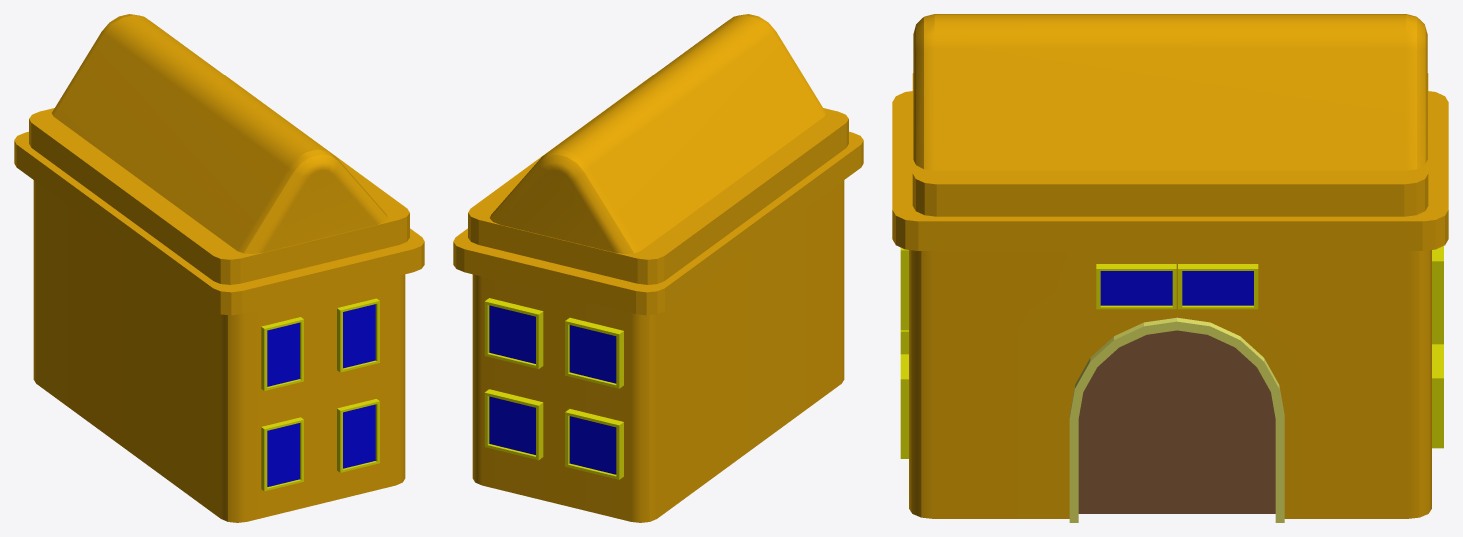
3 renders of one model, left to right at view 1: azimuth 30°, elevation 25°; view 2: azimuth 150°, elevation 25°; view 3: azimuth 270°, elevation 25°, orthographic. The views are drawn at different scales.
Parts seen in each view (by area): view 1: polySurface83, pCube60, polySurface89, polySurface87, polySurface88, polySurface90; view 2: polySurface83, pCube60, polySurface91, polySurface94, polySurface92, polySurface93; view 3: polySurface83, pCube60, pCube62, polySurface85, polySurface86, polySurface94, polySurface91, polySurface90, polySurface87.
Part boxes in pixels (<box>): polySurface83: <box>14,75,424,522</box>; pCube60: <box>52,14,387,253</box>; polySurface89: <box>261,417,303,491</box>; polySurface87: <box>337,298,379,372</box>; polySurface88: <box>261,317,303,390</box>; polySurface90: <box>337,399,379,472</box>; polySurface83: <box>453,75,863,522</box>; pCube60: <box>490,14,825,253</box>; polySurface91: <box>484,298,543,368</box>; polySurface94: <box>484,389,543,460</box>; polySurface92: <box>565,317,623,388</box>; polySurface93: <box>565,409,623,479</box>; polySurface83: <box>892,73,1448,518</box>; pCube60: <box>913,14,1427,170</box>; pCube62: <box>1069,317,1284,522</box>; polySurface85: <box>1096,264,1176,309</box>; polySurface86: <box>1178,264,1258,309</box>; polySurface94: <box>1432,344,1443,448</box>; polySurface91: <box>1432,246,1443,331</box>; polySurface90: <box>900,354,908,458</box>; polySurface87: <box>900,247,908,330</box>.
Size of the model in its own units: 3391 by 5353 by 6080.
